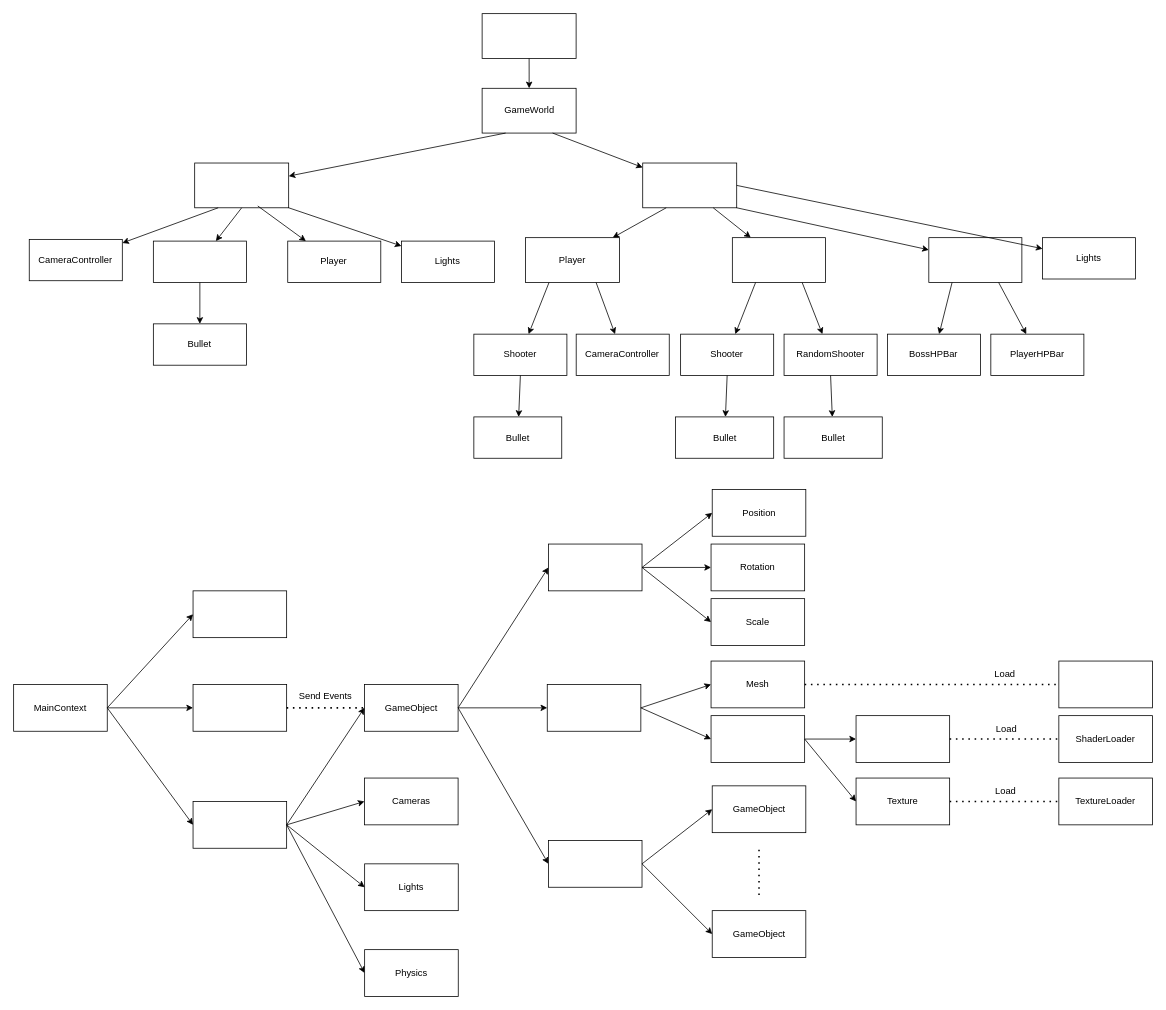
Some shapes in this 1166 by 1010 pixel diagram are drawn without their labels. Each missing label, with the box of its shape:
Boss: (732, 237, 825, 282)
BossStage: (642, 162, 737, 208)
BulletManager: (153, 240, 246, 282)
Children: (548, 840, 642, 887)
DodgeStage: (194, 162, 289, 208)
EventHandlers: (192, 684, 287, 731)
Material: (710, 715, 805, 762)
MeshLoader: (1058, 660, 1152, 708)
MeshRenderer: (546, 684, 641, 731)
PlayerUI: (928, 237, 1022, 282)
Root: (481, 13, 576, 58)
Scene: (192, 801, 287, 848)
Shader: (855, 715, 950, 762)
Transform: (548, 543, 642, 591)
Window: (192, 590, 287, 638)
